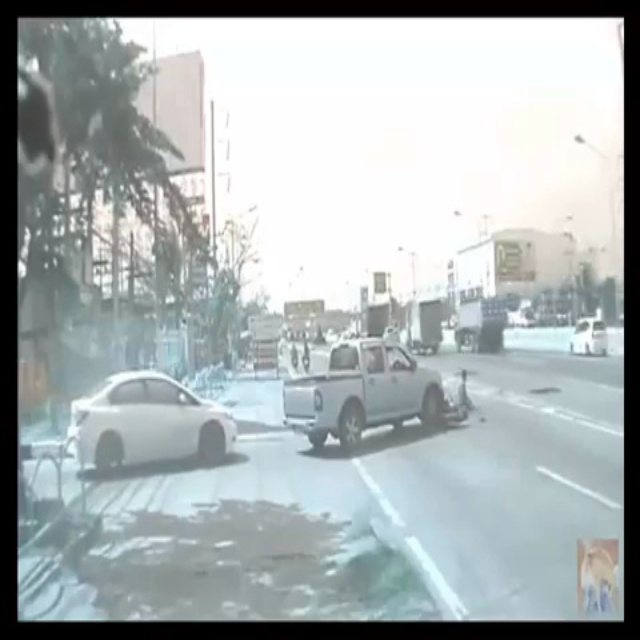acc: (280, 338, 477, 454)
